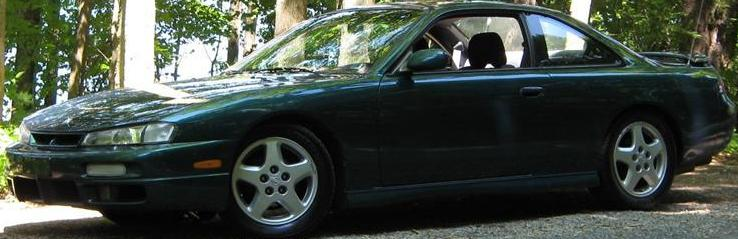front_view: (7, 102, 199, 217)
headlight: (77, 117, 194, 155)
side_glass: (371, 5, 637, 86)
